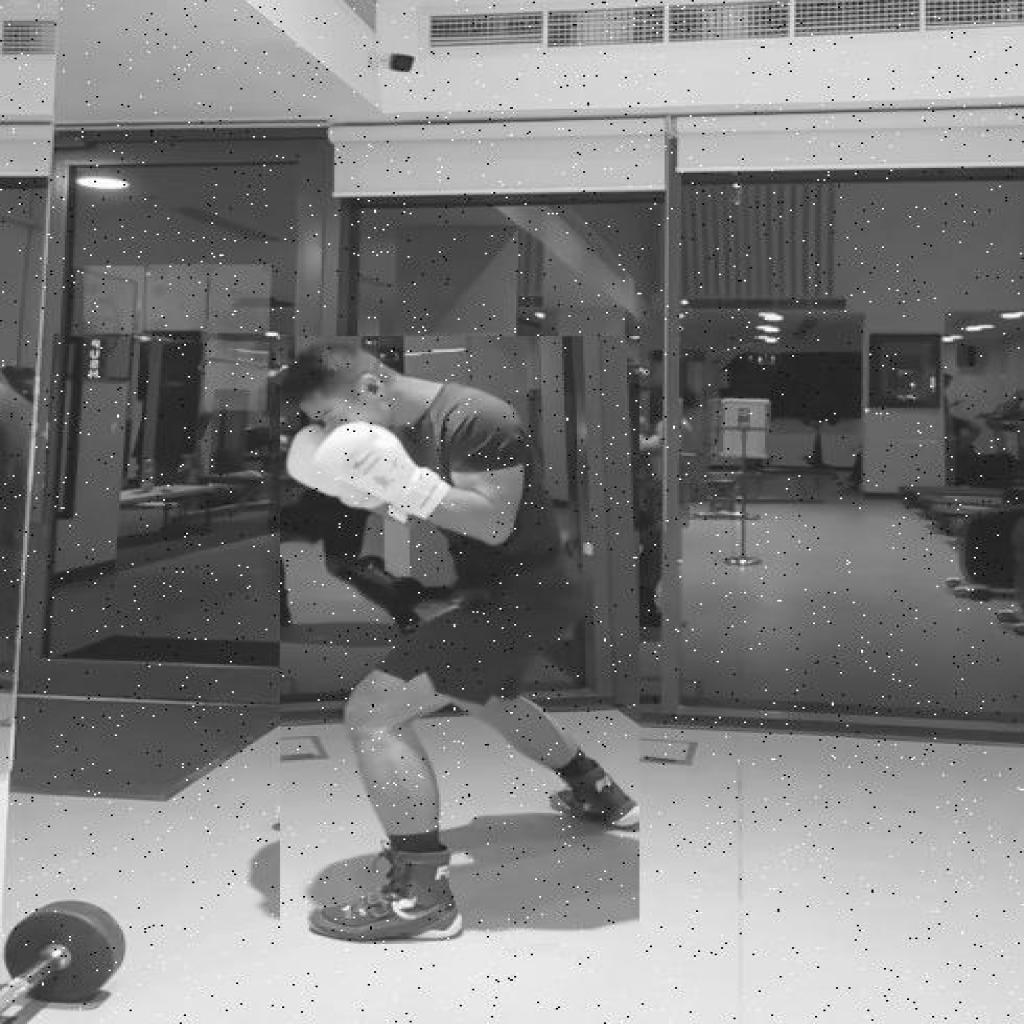no punch: (280, 336, 641, 945)
